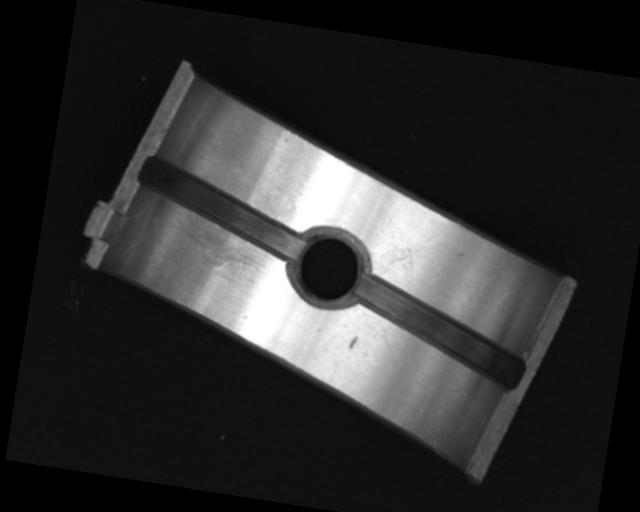bruise: (346, 334, 358, 352)
gap: (345, 273, 533, 392), (129, 153, 312, 259)
hole: (285, 222, 373, 313)
scratch: (163, 212, 272, 277)
